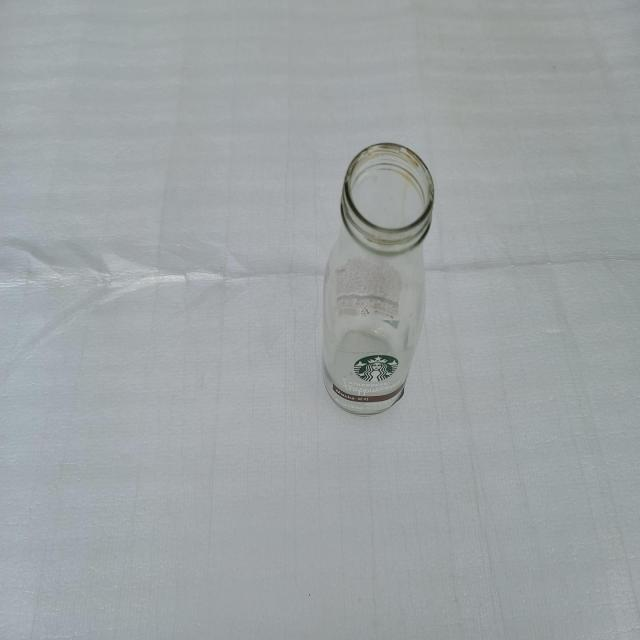glass: (323, 142, 435, 414)
